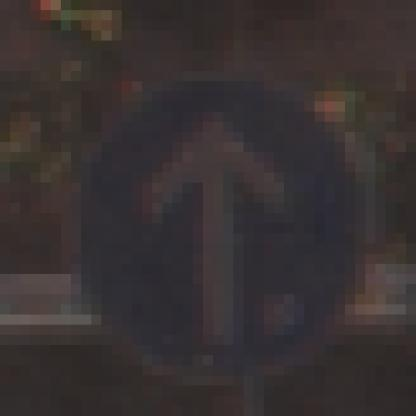AheadOnly: (62, 52, 366, 366)
